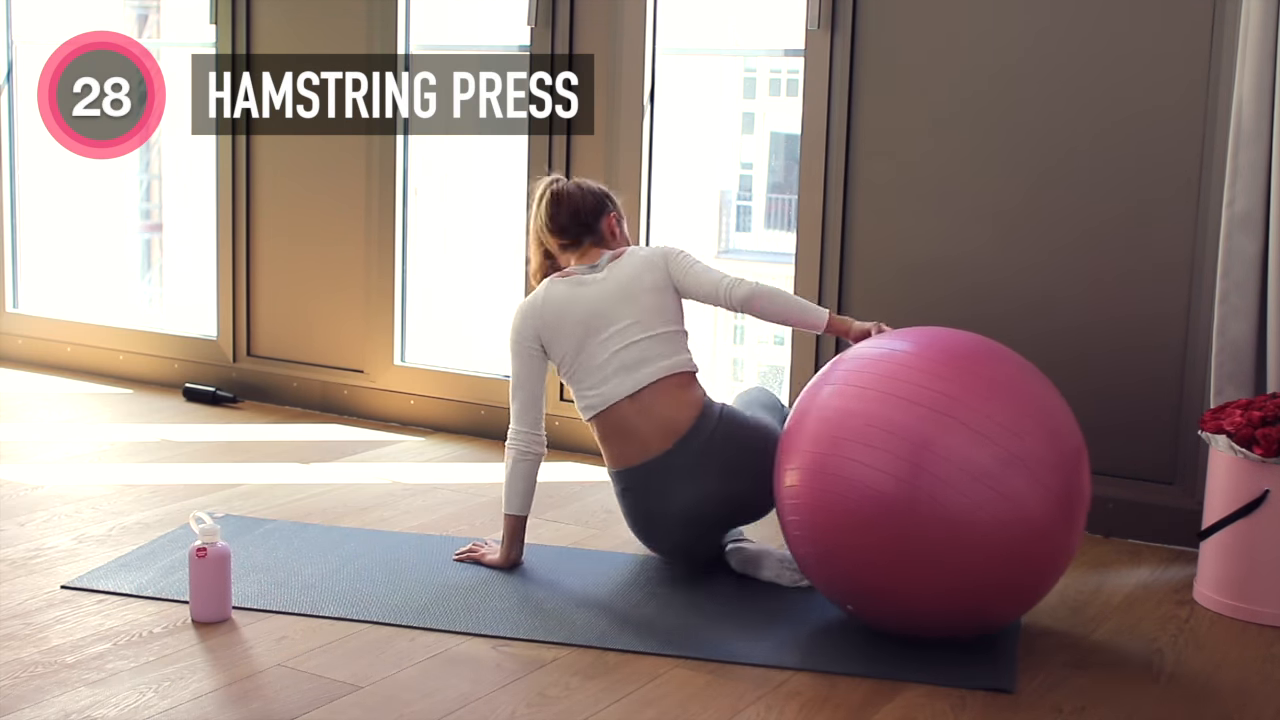yogaball: (773, 323, 1094, 642)
